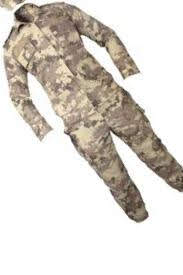uniform: (6, 9, 182, 206)
